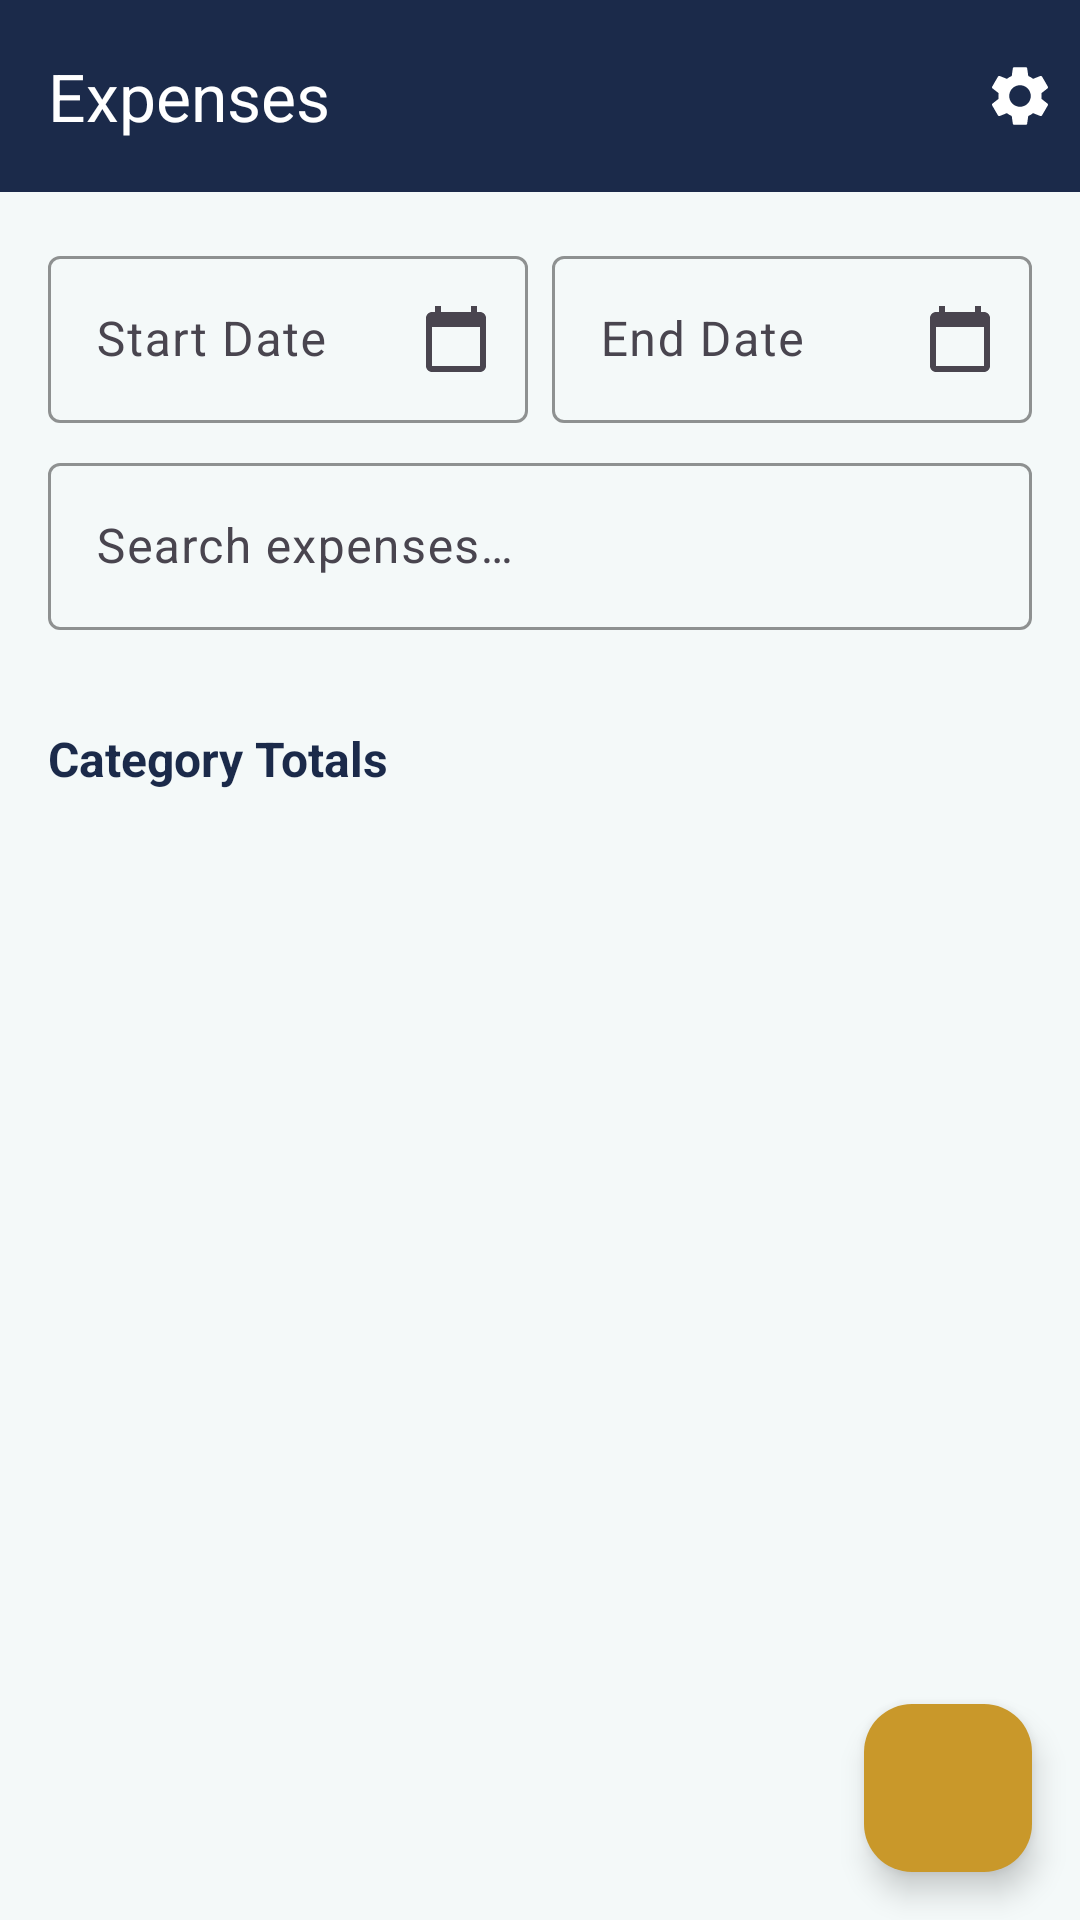

Icon click points for this 1080w x 1920h phone screenshot, format (x=x, y=y):
Settings: (x=1020, y=96)
